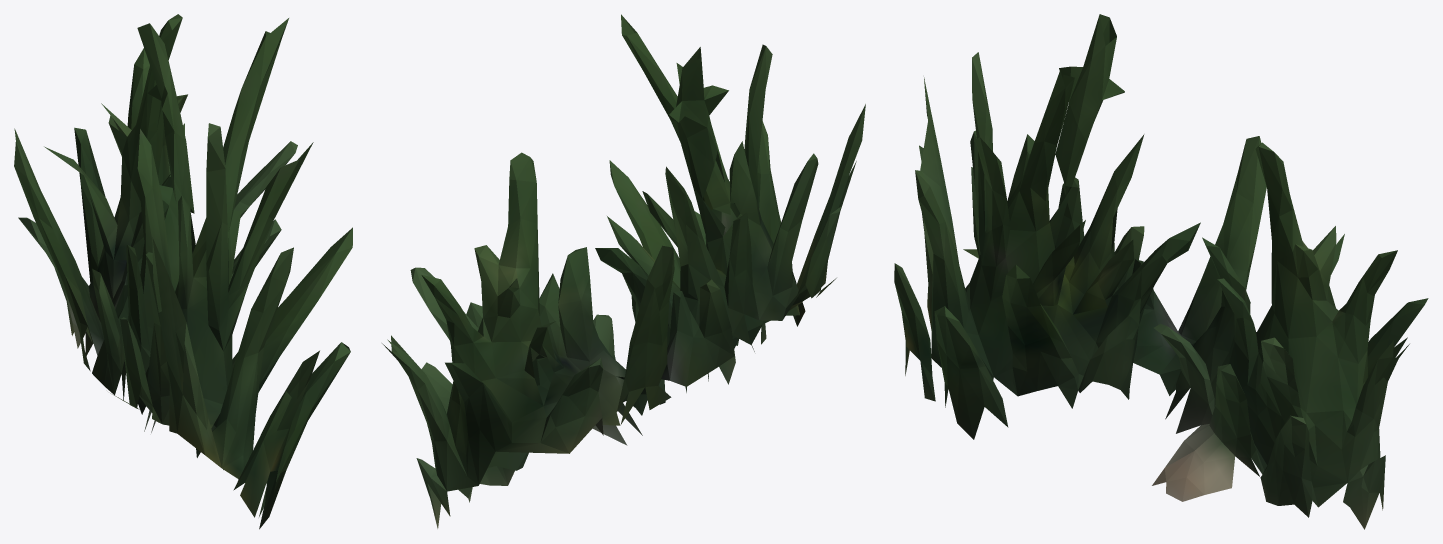
File: terrain3_plant_0.glb
3 views of the same model, side by side, from view 1: azimuth 30°, elevation 25°; view 2: azimuth 150°, elevation 25°; view 3: azimuth 270°, elevation 25° (orthographic). The views are drawn at different scales.
Visible parts, largest first — view 1: plant_0; view 2: plant_0; view 3: plant_0.
Boxes of the visible parts, x1=… form: plant_0: x1=14, y1=14, x2=352, y2=529; plant_0: x1=382, y1=14, x2=865, y2=528; plant_0: x1=894, y1=14, x2=1428, y2=529.
Bounding box in the file's own units: 6.01 × 8.43 × 9.16.
Materials: 1 (1 with a texture image).
